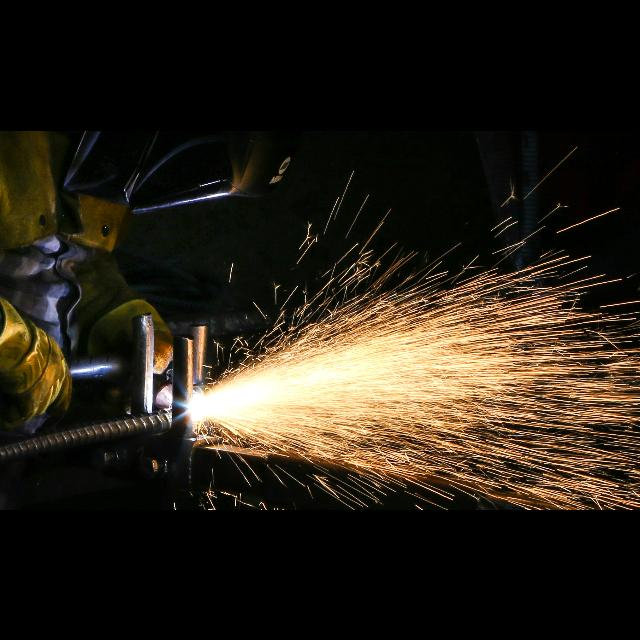fire: (192, 263, 640, 509)
